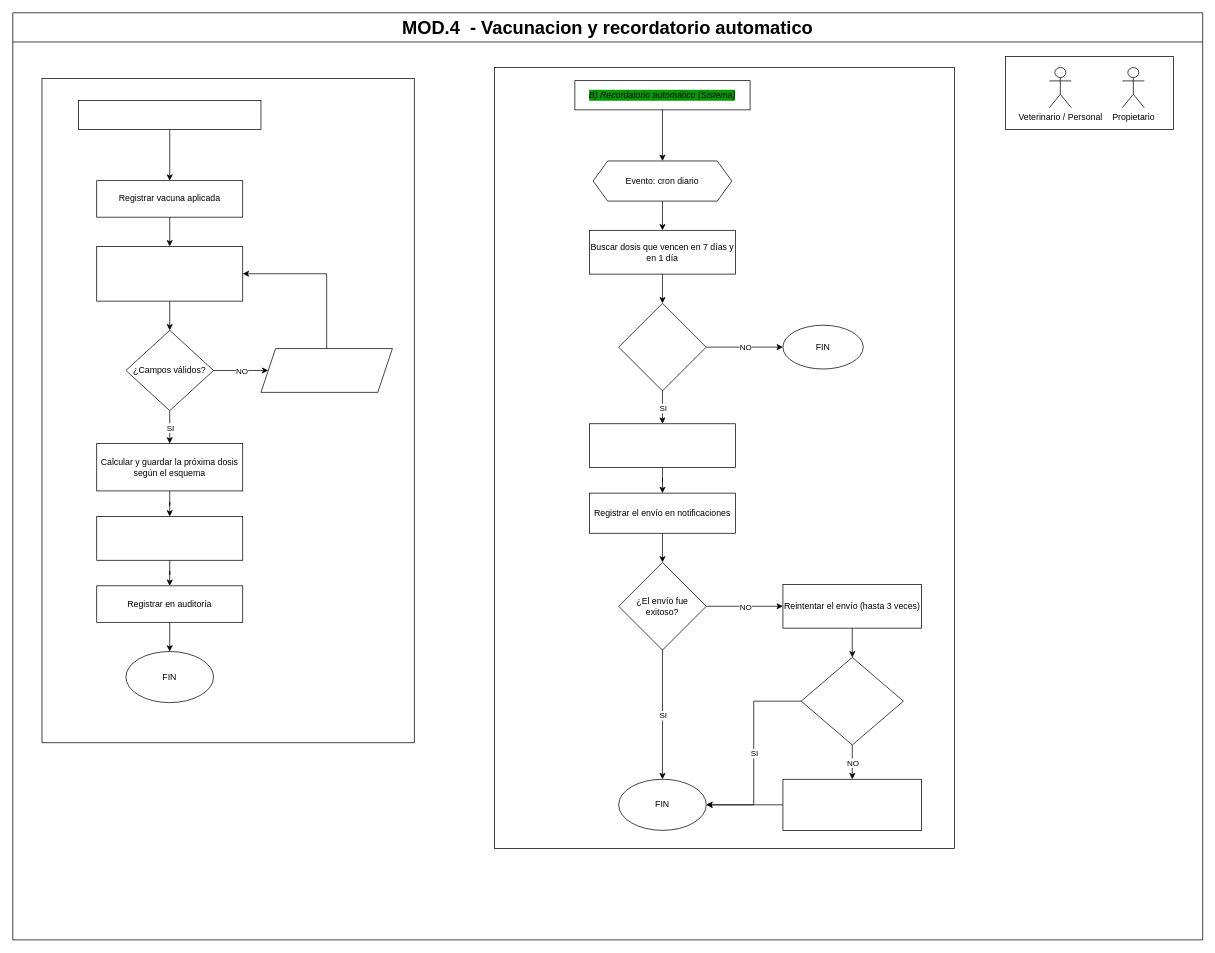
Image size: 1215x953. Some labels were removed from this diagram. The centre of each missing label's shape, as x and y in pixels:
"A) Registro de la vacuna (Veterinario)" belongs at pixel 169 115.
"Capturar: vacuna, laboratorio, lote, fecha de aplicación, veterinario" belongs at pixel 169 273.
"Enviar recordatorio por correo al propietario" belongs at pixel 662 445.
"Marcar como no entregado y avisar a la clínica" belongs at pixel 852 804.
"Mensaje: corrige los campos marcados" belongs at pixel 326 370.
"Programar el recordatorio en el calendario" belongs at pixel 169 538.
"¿Hay dosis por vencer?" belongs at pixel 662 347.
"¿Se entregó en algún intento?" belongs at pixel 851 701.
